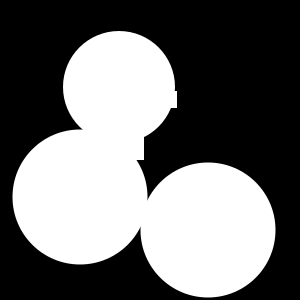circle: (102, 118, 144, 160), (160, 91, 177, 108)
rectangle: (140, 163, 276, 298), (12, 130, 148, 264), (63, 31, 175, 143)
